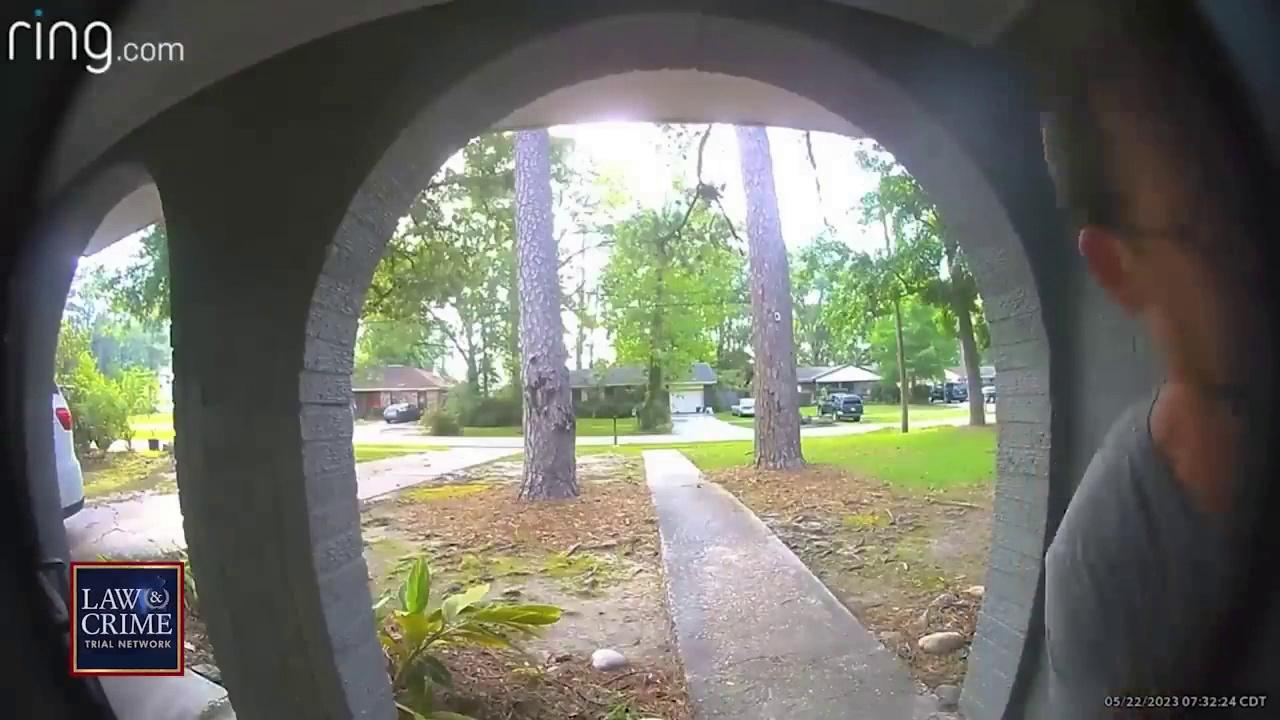suspicion: (998, 58, 1280, 720)
